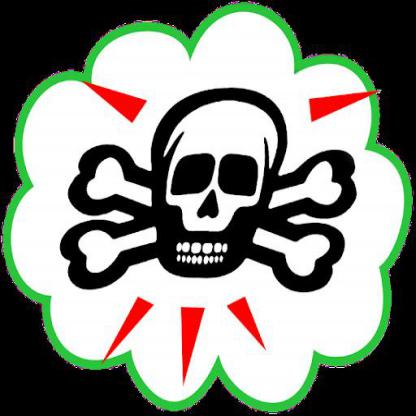skull: (59, 83, 361, 299)
